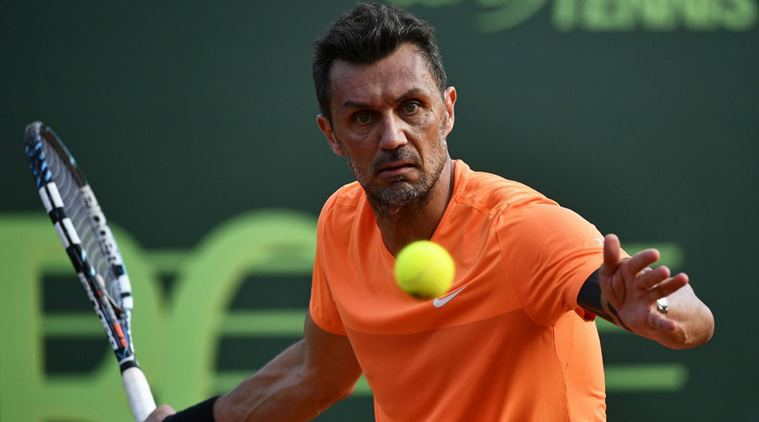tennis ball: (392, 238, 458, 303)
tennis player: (202, 3, 717, 422)
